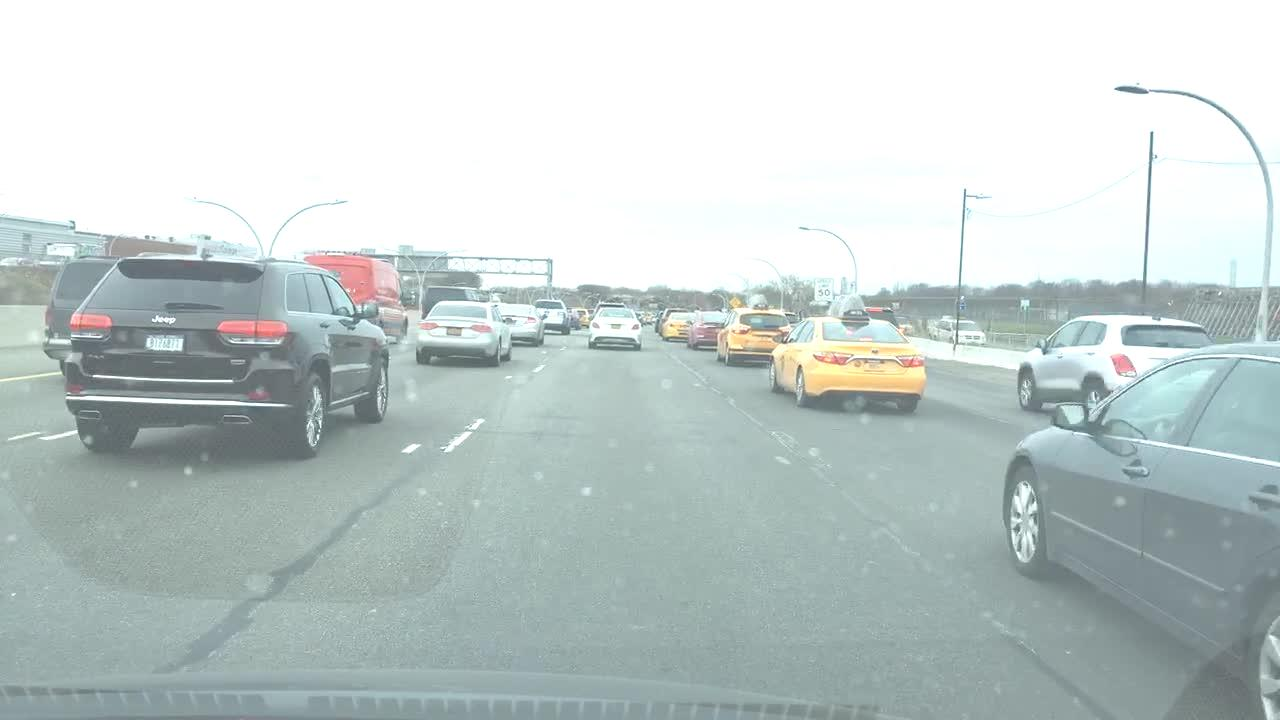jeep: (139, 309, 187, 332)
